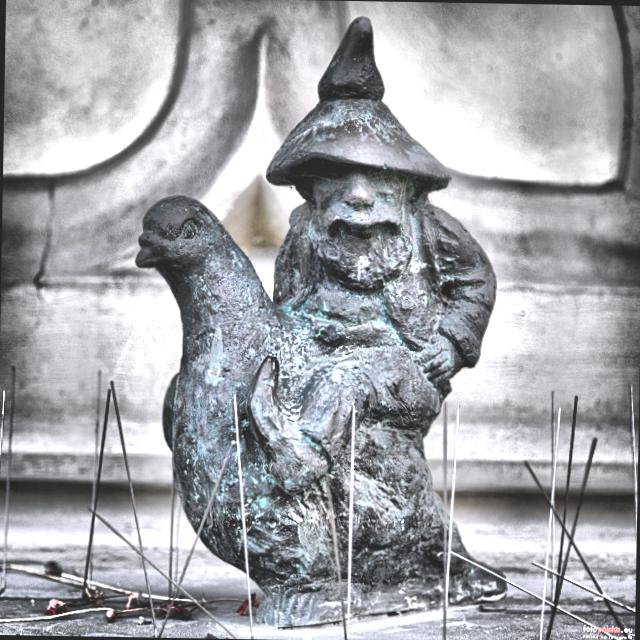Golebnik: (133, 16, 507, 629)
